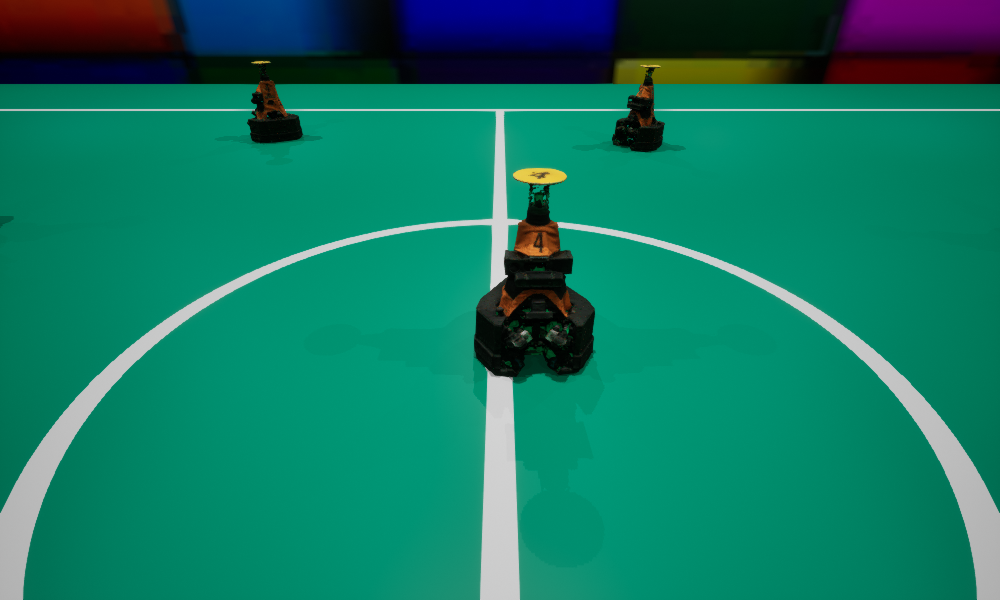o: (474, 168, 594, 376), (247, 61, 302, 142), (612, 65, 664, 150)
